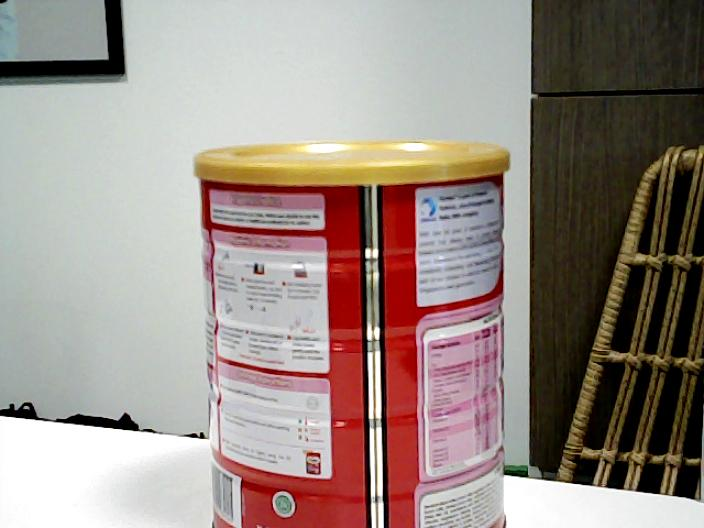Babymilk-powder-_800-899g_NonHalal_NonHealthy: (190, 137, 514, 528)
